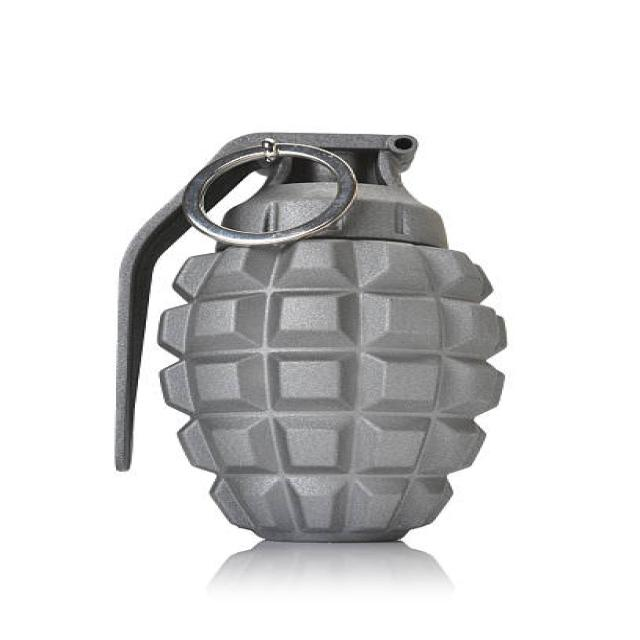grenade: (101, 127, 520, 556)
